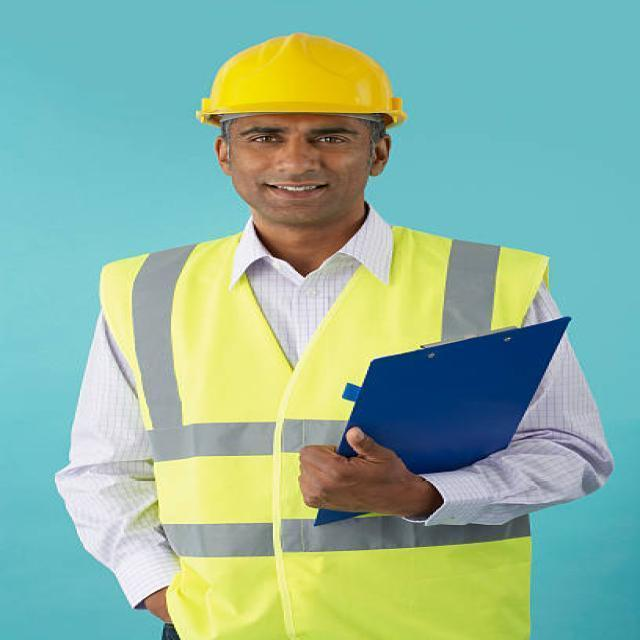safety_helmet: (76, 229, 565, 640)
